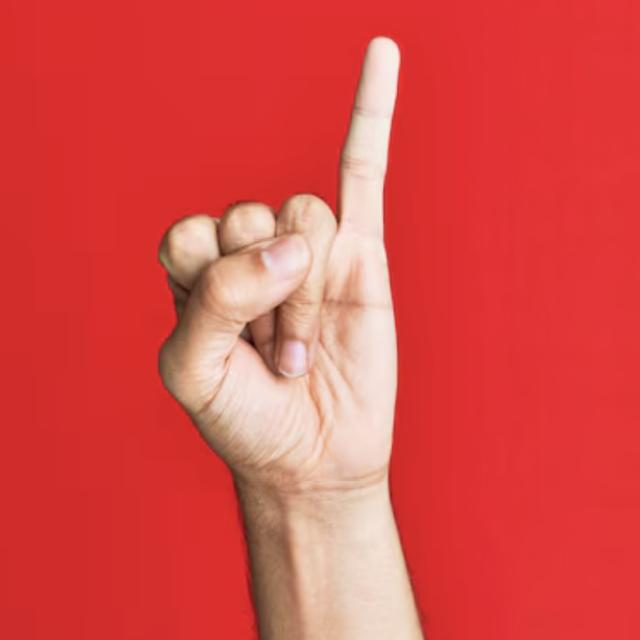pinky: (332, 25, 410, 244)
